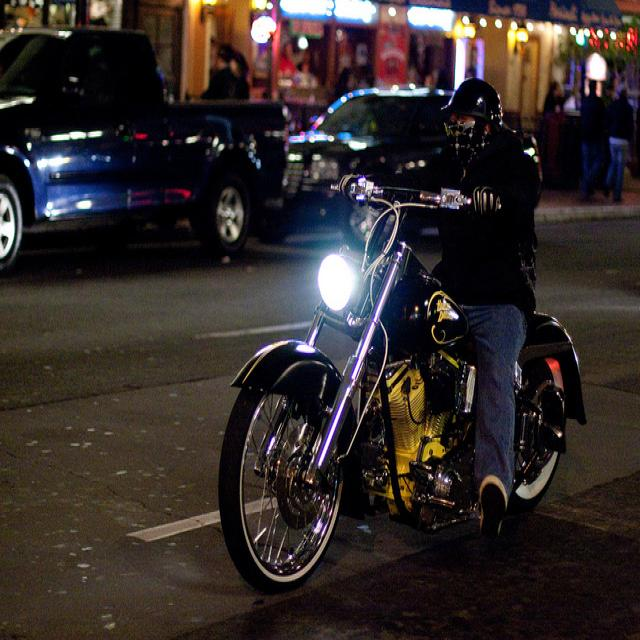Motorbike: (218, 218, 624, 592)
People: (437, 50, 546, 576), (573, 61, 640, 208)
car: (0, 40, 290, 273), (280, 50, 478, 226)
